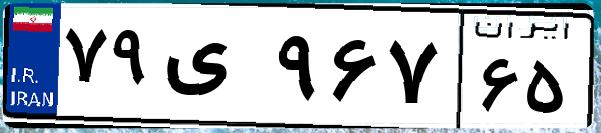5: (525, 38, 570, 115)
6: (330, 28, 385, 110), (475, 38, 525, 113)
7: (385, 28, 445, 110), (57, 26, 110, 100)
9: (270, 28, 330, 110), (110, 28, 158, 98)
ی: (158, 20, 270, 120)
